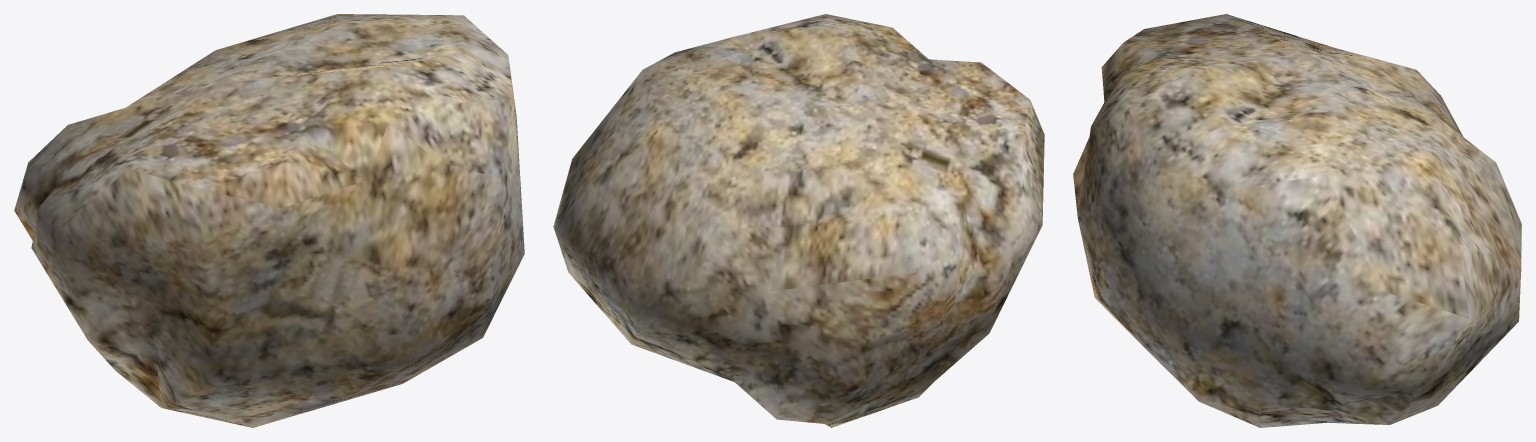
File: rock026.glb
3 renders of one model, left to right at view 1: azimuth 30°, elevation 25°; view 2: azimuth 150°, elevation 25°; view 3: azimuth 270°, elevation 25°, orthographic. The views are drawn at different scales.
Parts seen in each view (by area): view 1: rock026; view 2: rock026; view 3: rock026.
Part boxes in pixels (bbox=[...]): rock026: bbox=[14, 14, 524, 427]; rock026: bbox=[553, 14, 1044, 427]; rock026: bbox=[1073, 14, 1521, 427].
Size of the model in its own units: 0.9616 by 0.7147 by 0.789.
Materials: 1 (1 with a texture image).
